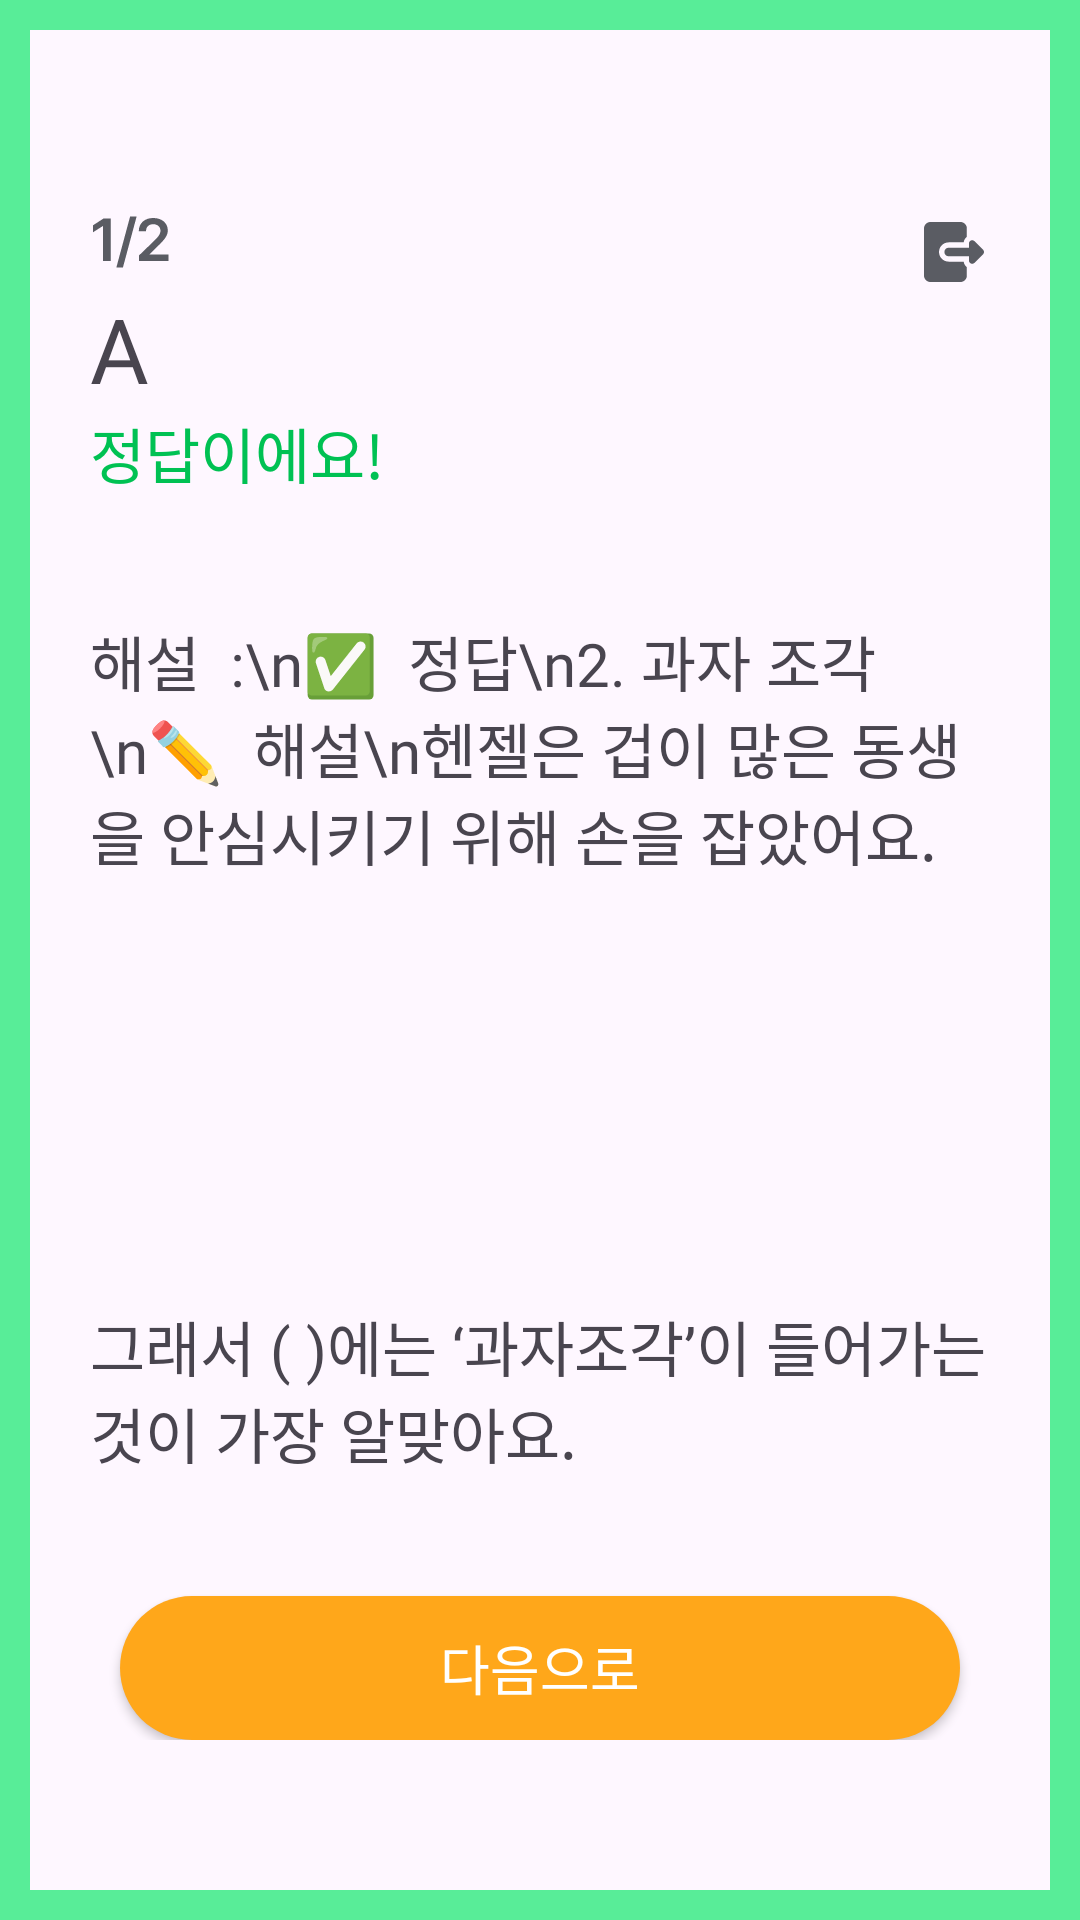

Where to tap for icons on this 1080*1920 app screen, as (x=x, y=y):
exit: (x=954, y=252)
